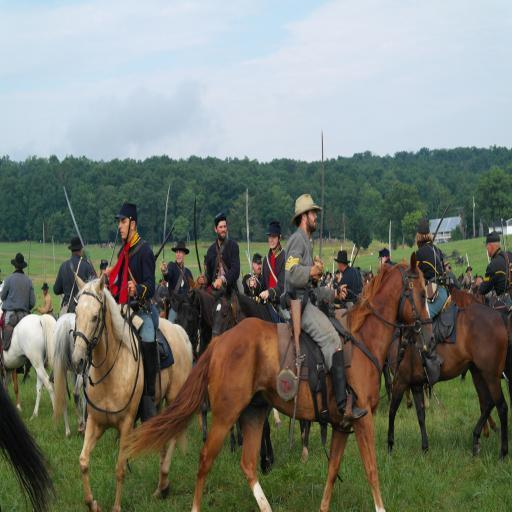horse: (0, 252, 512, 512)
